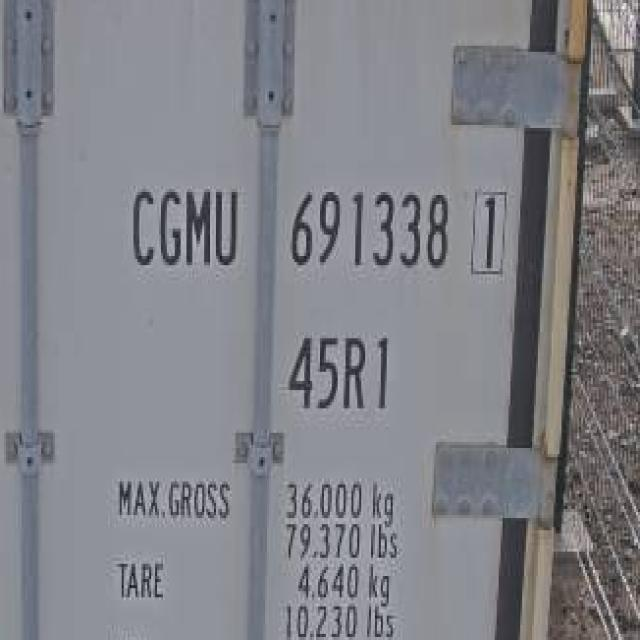dv: (470, 182, 510, 282)
owner: (124, 173, 245, 279)
serial: (282, 174, 451, 282)
size: (284, 322, 398, 421)
